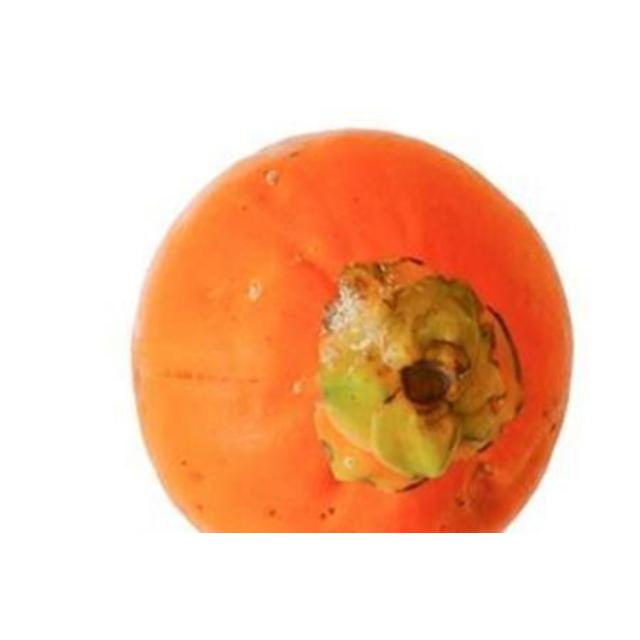good: (128, 128, 577, 532)
